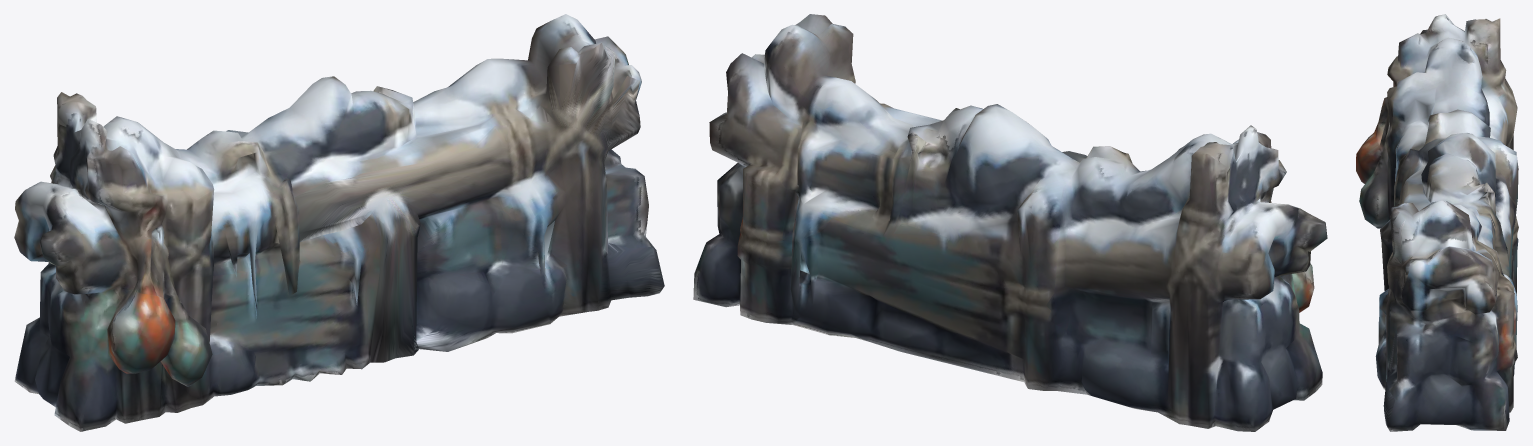
The model's file is SM_Tripo_FrostSeaBarricade.glb.
The picture shows the model from 3 angles, left to right: view 1: azimuth 30°, elevation 25°; view 2: azimuth 150°, elevation 25°; view 3: azimuth 270°, elevation 25°; orthographic projection. The views are drawn at different scales.
Visible parts, largest first — view 1: SM_Tripo_FrostSeaBarricade_LOD0; view 2: SM_Tripo_FrostSeaBarricade_LOD0; view 3: SM_Tripo_FrostSeaBarricade_LOD0.
Part boxes in pixels (bbox=[...]): SM_Tripo_FrostSeaBarricade_LOD0: bbox=[14, 14, 664, 431]; SM_Tripo_FrostSeaBarricade_LOD0: bbox=[693, 14, 1327, 431]; SM_Tripo_FrostSeaBarricade_LOD0: bbox=[1356, 14, 1518, 431].
Bounding box in the file's own units: 2.68 × 1.18 × 0.8078.
Materials: 1 (1 with a texture image).
